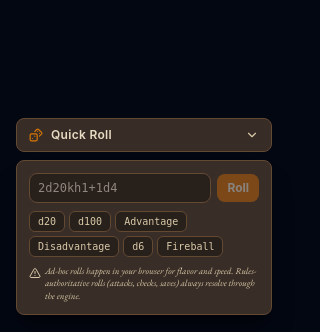
Test case: DiceRollerPanel › total readout stays inside legal bounds for the rolled expression
This screenshot has width=320, height=332.
Type "8d6+4" into the field named "Custom dice expression" at (120, 188), box [29,173,211,203]
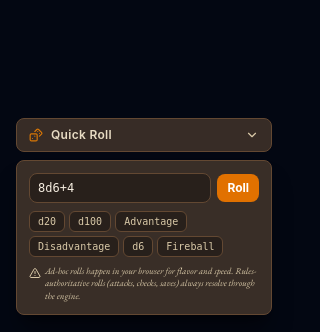
Click the button "Roll" at (238, 188), box [217,174,259,202]
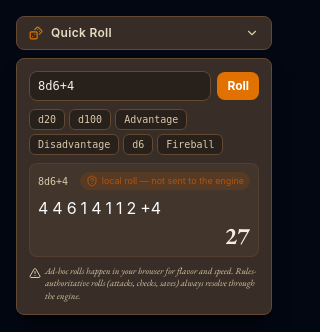
Expected: the number of list items with class "kept" is 8
